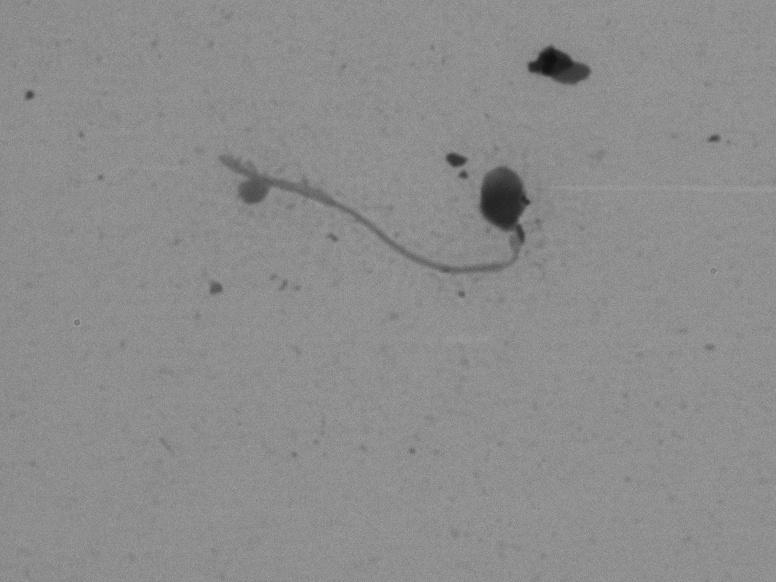Abnormal: (194, 142, 562, 289)
